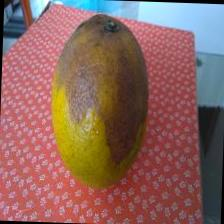Orange Rotten: (41, 6, 168, 208)
